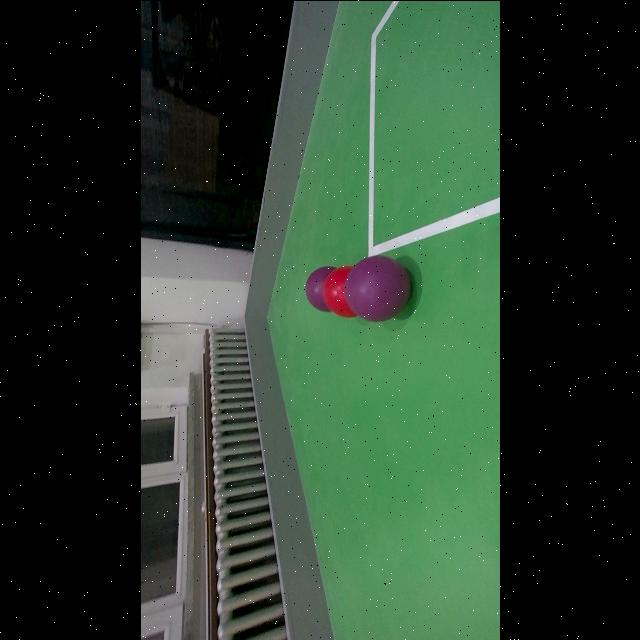P: (344, 255, 410, 321), (304, 270, 332, 310)
R: (321, 265, 357, 317)
